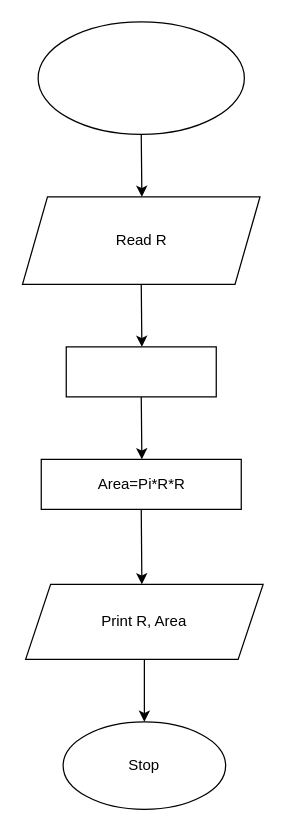
Image size: 285x831. Some labels were removed from this diagram. The box of each missing label's shape, as (x1, y1, x2, y2) in pixels:
Pl=3.14: (65, 346, 216, 397)
Start: (37, 21, 244, 134)
